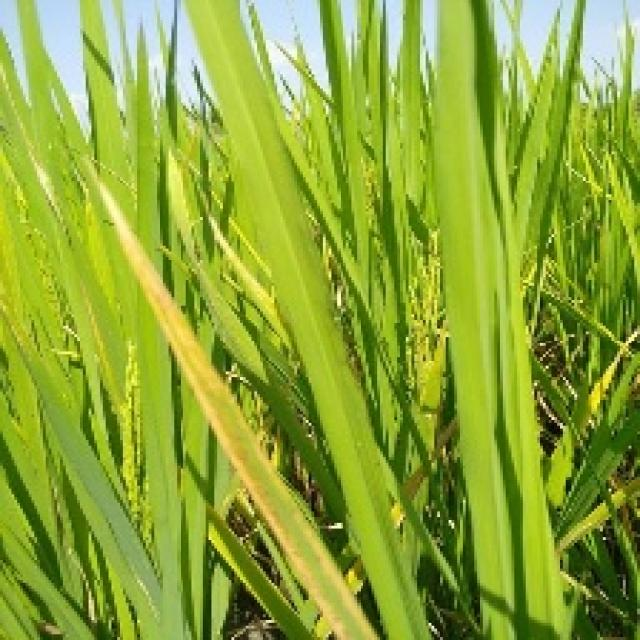Unhealthy: (89, 160, 352, 640)
